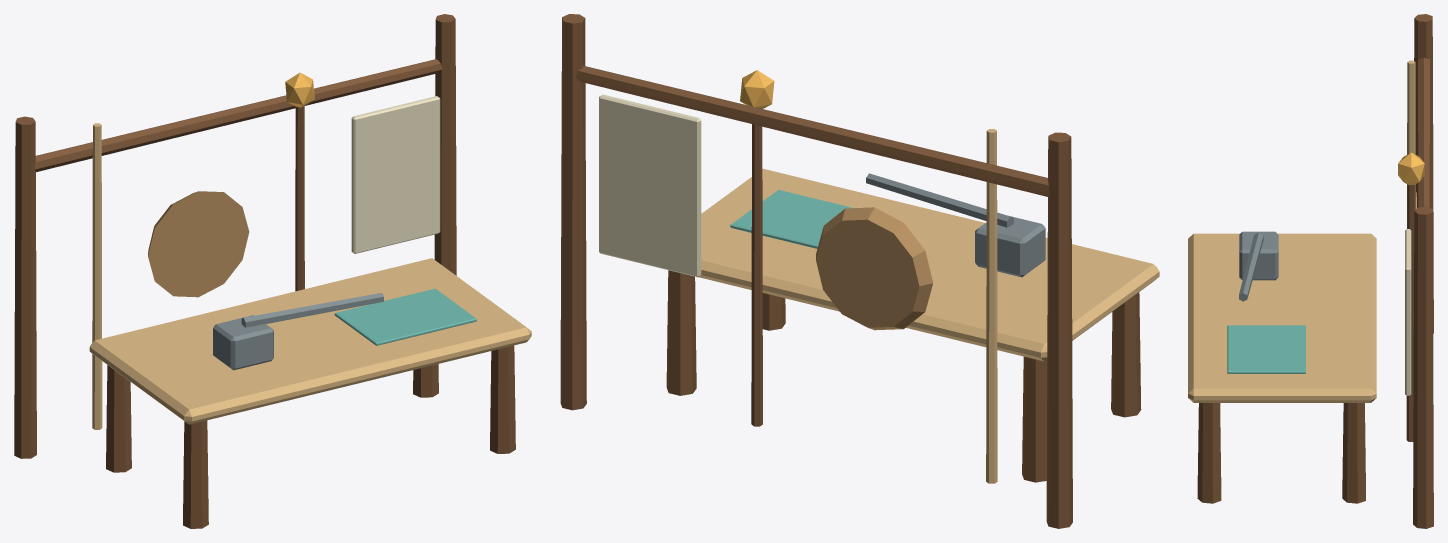
The model's file is CC_ResearchLab.fbx.
The picture shows the model from 3 angles, left to right: view 1: azimuth 30°, elevation 25°; view 2: azimuth 150°, elevation 25°; view 3: azimuth 270°, elevation 25°; orthographic projection. The views are drawn at different scales.
Parts seen in each view (by area): view 1: Top.008, Glider wing, Test shield, Rack post.004, Rack bar.002, Rack post.005, Blueprint, Test spear, Leg.084, Leg.086, Vise, Leg.085 (+4 smaller); view 2: Top.008, Glider wing, Test shield, Rack post.004, Rack post.005, Rack bar.002, Test spear, Leg.087, Blueprint, Signal staff, Leg.084, Leg.085 (+4 smaller); view 3: Top.008, Rack post.005, Blueprint, Leg.086, Leg.087, Rack bar.002, Rack post.004, Vise, Signal staff, Glider wing, Test spear, Blade on vise (+1 smaller).
Boxes of the visible parts, x1,y1,x2,y2 form: Top.008: [89, 258, 531, 424]; Glider wing: [351, 96, 440, 253]; Test shield: [148, 191, 249, 297]; Rack post.004: [14, 116, 36, 458]; Rack bar.002: [34, 59, 442, 172]; Rack post.005: [434, 14, 456, 275]; Blueprint: [334, 288, 476, 345]; Test spear: [92, 123, 102, 429]; Leg.084: [183, 420, 208, 528]; Leg.086: [490, 345, 515, 453]; Vise: [213, 315, 273, 370]; Leg.085: [106, 365, 131, 472]; Top.008: [698, 168, 1159, 361]; Glider wing: [599, 94, 701, 277]; Test shield: [816, 207, 932, 330]; Rack post.004: [1046, 132, 1072, 528]; Rack post.005: [560, 14, 586, 410]; Rack bar.002: [575, 66, 1049, 196]; Test spear: [986, 129, 997, 483]; Leg.087: [666, 270, 696, 395]; Blueprint: [730, 189, 853, 248]; Signal staff: [751, 124, 762, 426]; Leg.084: [1111, 292, 1141, 417]; Leg.085: [1022, 356, 1047, 482]; Top.008: [1188, 233, 1376, 402]; Rack post.005: [1413, 207, 1433, 528]; Blueprint: [1227, 325, 1305, 373]; Leg.086: [1197, 403, 1221, 503]; Leg.087: [1342, 403, 1365, 503]; Rack bar.002: [1416, 57, 1431, 208]; Rack post.004: [1414, 14, 1433, 333]; Vise: [1239, 231, 1278, 280]; Signal staff: [1406, 184, 1415, 441]; Glider wing: [1405, 229, 1411, 395]; Test spear: [1407, 60, 1415, 228]; Blade on vise: [1239, 232, 1263, 301].
Size of the model in its own units: 3.04 by 2.2 by 1.56.
